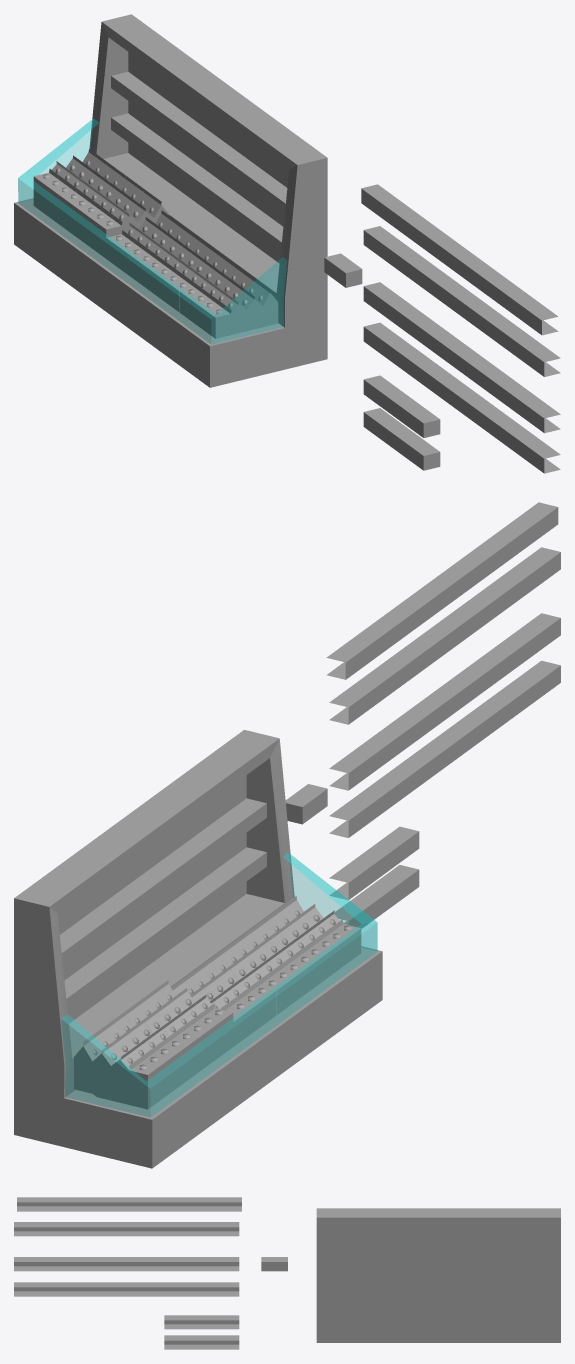
File: freezer shelf.fbx
3 views of the same model, one above another, from view 1: azimuth 30°, elevation 25°; view 2: azimuth 150°, elevation 25°; view 3: azimuth 270°, elevation 25° (orthographic). The views are drawn at different scales.
Visible parts, largest first — view 1: polySurface5936; view 2: polySurface5936; view 3: polySurface5936.
Boxes of the visible parts, <box> form: polySurface5936: <box>14,14,560,473</box>; polySurface5936: <box>14,502,560,1168</box>; polySurface5936: <box>14,1197,560,1349</box>.
Size of the model in its own units: 49.49 by 95.15 by 320.
